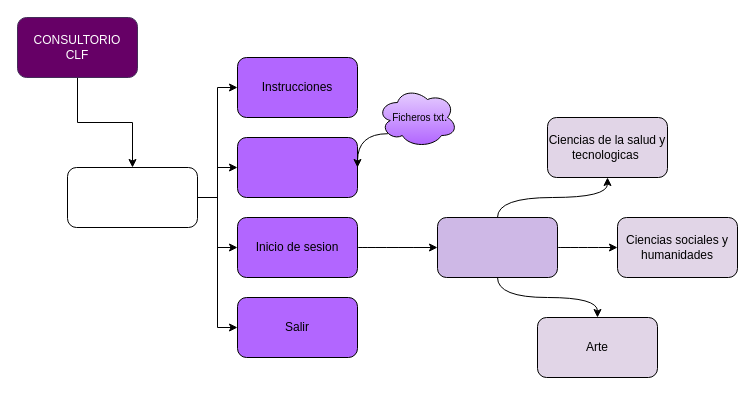
Image size: 755x395. Some labels were removed from this diagram. Each missing label, with the centre of its shape:
Eleccion de modalidades: point (497, 247)
MENU: point (132, 197)
Registro: point (297, 167)
